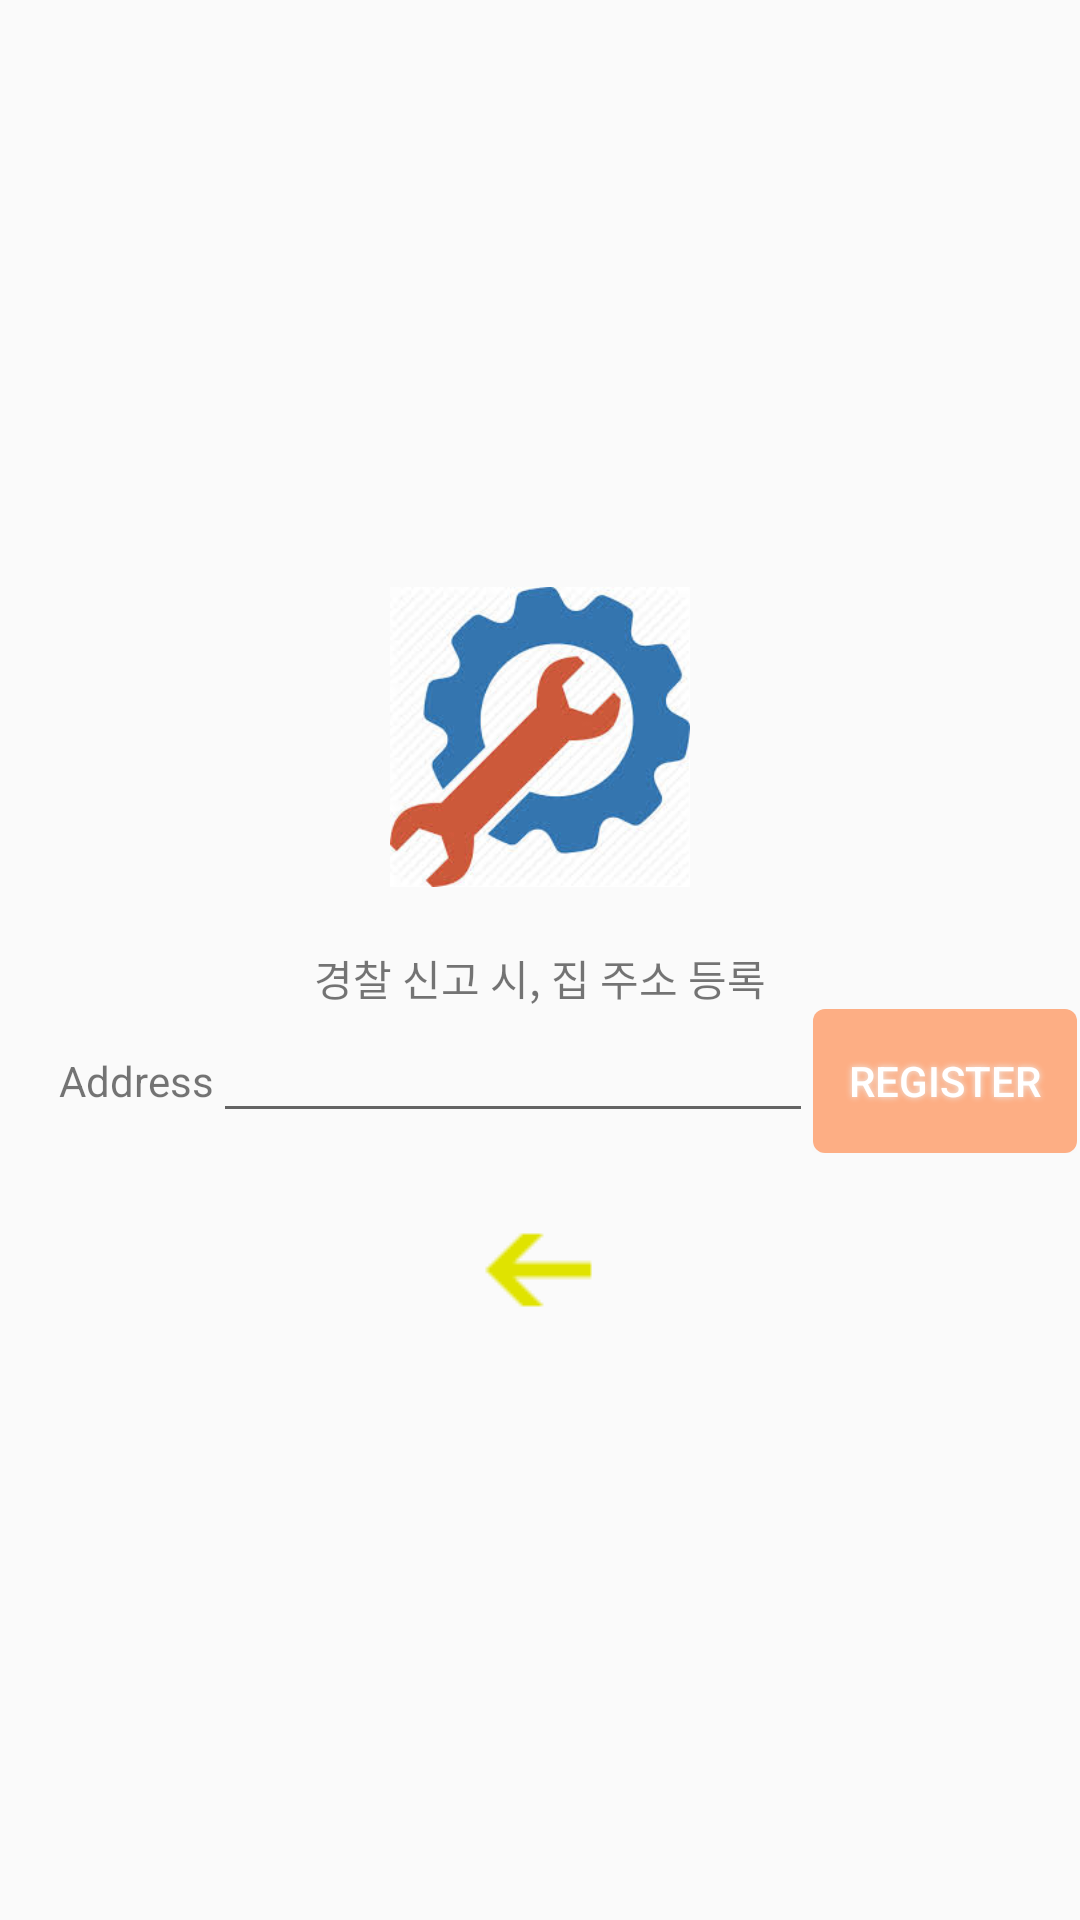

Where to tap for icons on this 1080×1920 app screen, as point (x, y):
back: point (538, 1270)
set up: point (540, 737)
